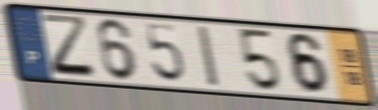5: (234, 28, 285, 94), (142, 21, 189, 85)
6: (94, 16, 141, 84), (283, 32, 332, 97)
I: (195, 23, 223, 90)
Z: (39, 12, 101, 82)
